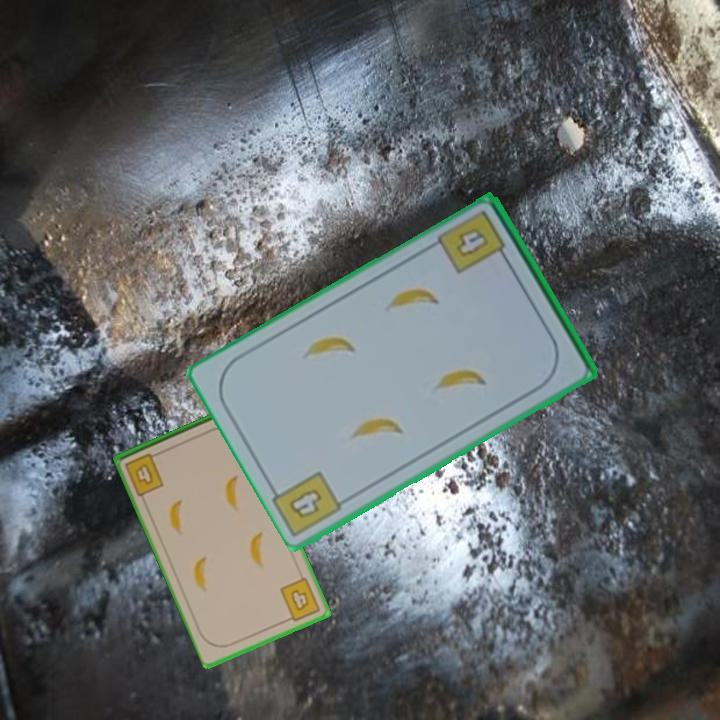4b: (437, 207, 512, 277), (277, 574, 324, 625), (121, 449, 167, 499), (285, 485, 325, 522)
